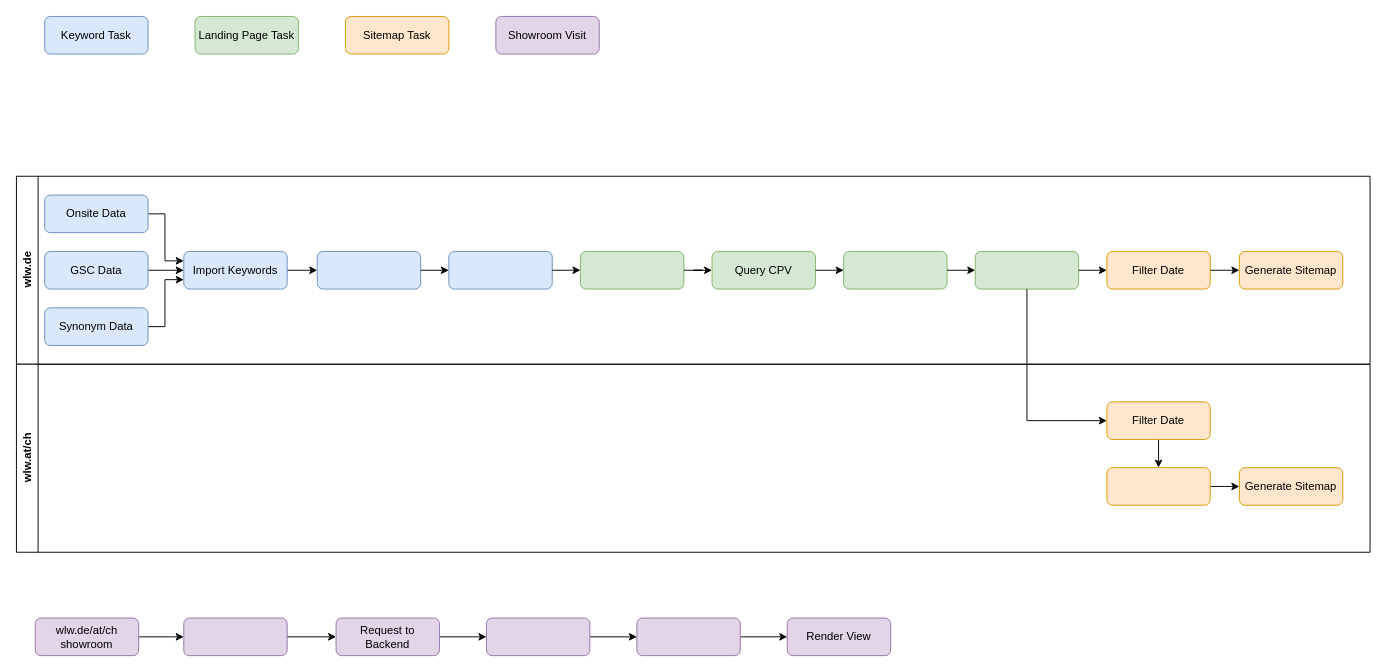
The diagram is 1387 pixels wide and 672 high, and some of its shapes have lost their labels. Here are the shapes that lost their labels. From the top down, the box of each, then its label:
(316, 251, 421, 289): Update Synonym
(448, 251, 552, 289): Refresh Product Num
(580, 251, 684, 289): Filter Relevance, Product Quantity...
(843, 251, 947, 289): Generate Title,Desc...
(974, 251, 1079, 289): Generate Showroom
(1106, 467, 1210, 505): ReWrite URL
(183, 617, 287, 656): Nginx to Node
(486, 617, 590, 656): Get Cache Data
(636, 617, 740, 656): Query Products
